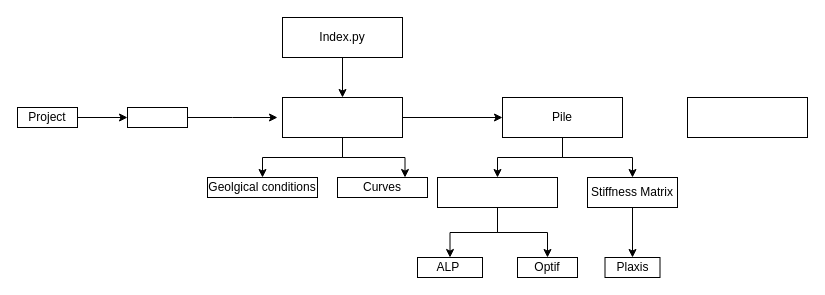
Some shapes in this 825 by 295 pixel diagram are drawn without their labels. The shapes that lost their labels are listed below. From the top down, each one's centre as x and y in pixels, then its label:
At (157,117): "Data".
At (342,117): "CPT".
At (747,117): "Shallow and Suction Bucket".
At (497,192): "PY, QZ and Tz Curve".
